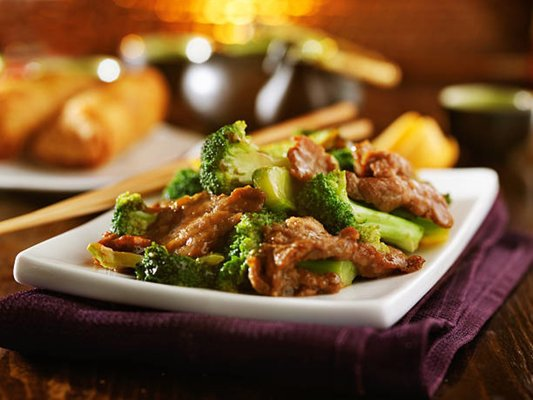curry: (294, 169, 428, 256)
